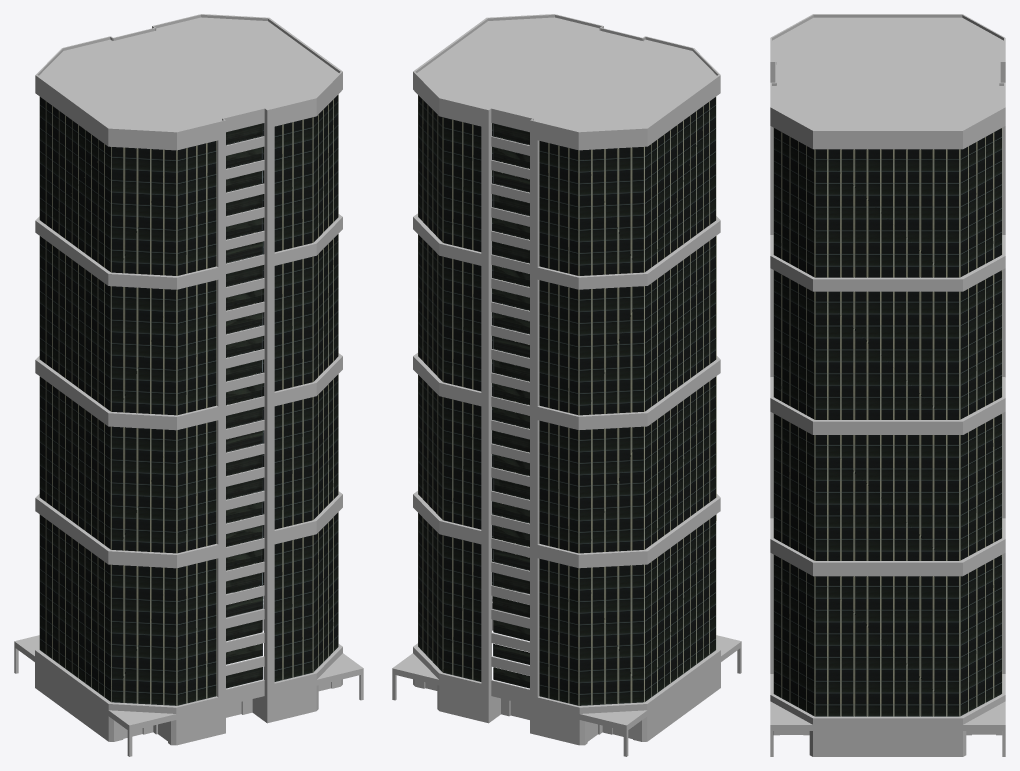
3 views of the same model, side by side, from view 1: azimuth 30°, elevation 25°; view 2: azimuth 150°, elevation 25°; view 3: azimuth 270°, elevation 25° (orthographic). The views are drawn at different scales.
Visible parts, largest first — view 1: EC-030; view 2: EC-030; view 3: EC-030.
Boxes of the visible parts, <box> form: EC-030: <box>14,14,363,756</box>; EC-030: <box>392,14,741,756</box>; EC-030: <box>770,14,1005,756</box>.
Size of what is drawn, in the model's own units: 31.15 by 77.85 by 26.49.
